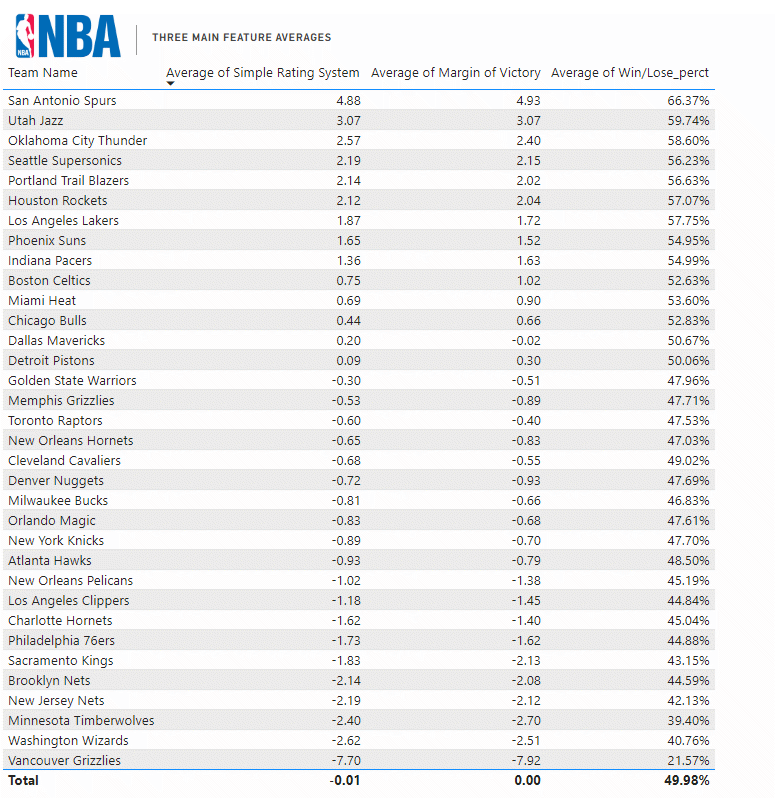

The page's visual inventory and layout, read from the dashboard file:
{"tool":"tableau","page":{"name":"Dashboard 4","canvas":[1000,1000],"units":"permille","ordinal":1},"visuals":[{"type":"worksheet","title":"Sheet 10","mark":"Automatic","rows":["Team"],"box":[8.6,10.6,810.6,978.8]},{"type":"filter","title":"Sheet 10","param":"[federated.1xjvibq153o2mr1czbk7y0131sqf].[none:Season:nk]","box":[819.2,10.6,172.2,68.8]},{"type":"filter","title":"Sheet 10","param":"[federated.1xjvibq153o2mr1czbk7y0131sqf].[none:Team:nk]","box":[819.2,79.4,172.2,68.8]}]}

Visuals, with their boxes on the dashboard's canvas, which has no fixed pixel size, in thousandths of its width and height (x1, y1, x2, y2). These are canvas units, not pixel positions in the 775x798 screenshot, which may show the page scaled, cropped or inside an application window:
"Sheet 10" worksheet: region(9, 11, 819, 989)
"Sheet 10" filter: region(819, 11, 991, 79)
"Sheet 10" filter: region(819, 79, 991, 148)
